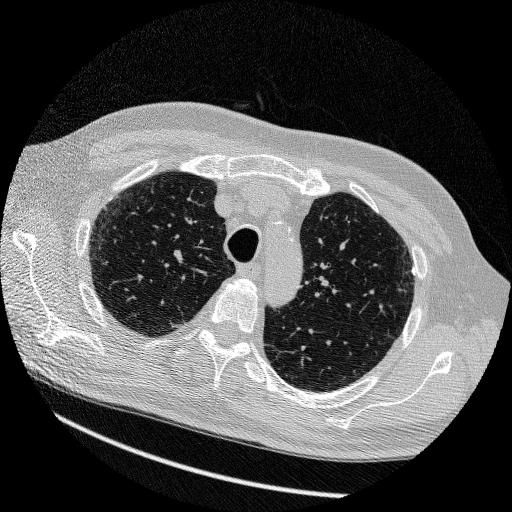nodule: (408, 265, 421, 278)
